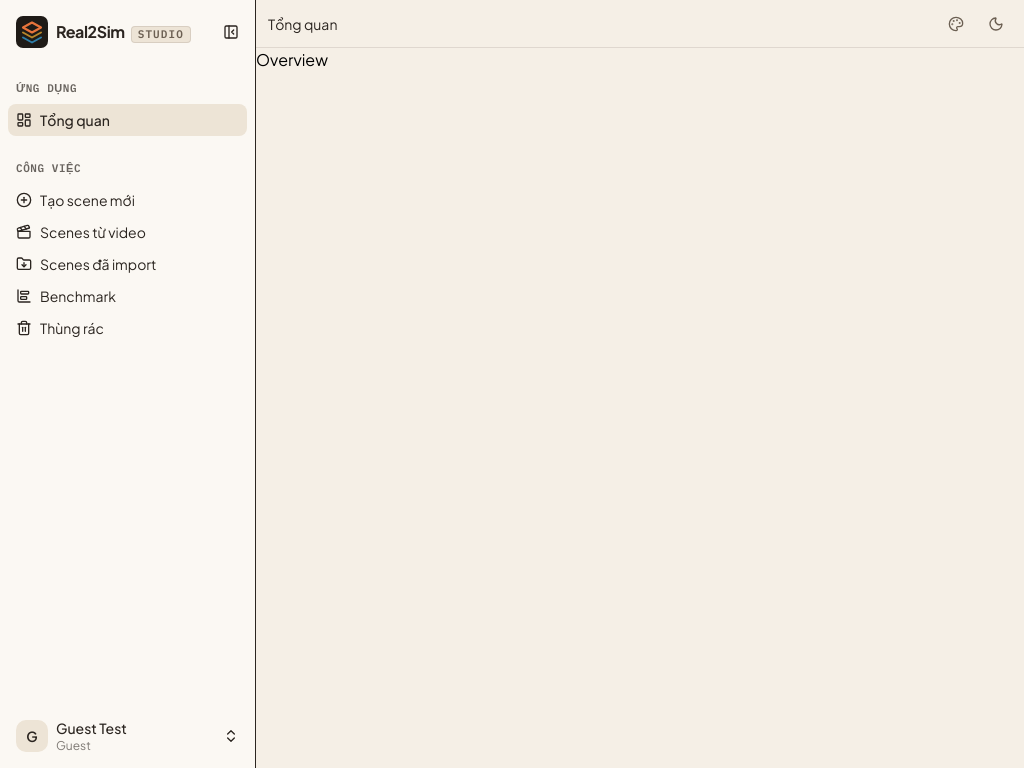
it: tài khoản và đích sau xác thực › AppShell phân biệt role Guest và hiển thị quota/reset từ backend
The image size is (1024, 768).
Press the mouse on the button "G Guest Test Guest": (128, 736) 8,712 -> 247,760
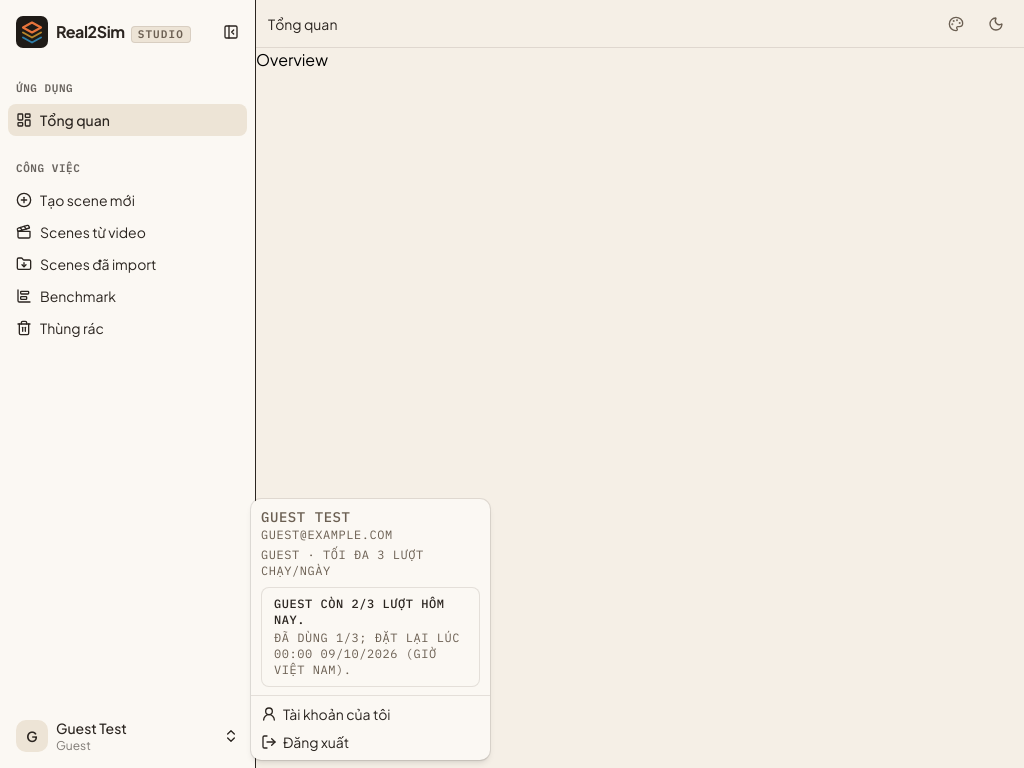
Expected: the text "Guest" is shown, 56,738 -> 91,753
Now the text "Guest còn 2/3 lượt hôm nay." is shown, box 274,596 -> 467,628
Now the text "Đã dùng 1/3; đặt lại lúc 00:00 09/10/2026 (giờ Việt Nam)." is shown, box 274,630 -> 467,678
